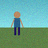person: (11, 12, 23, 35)
